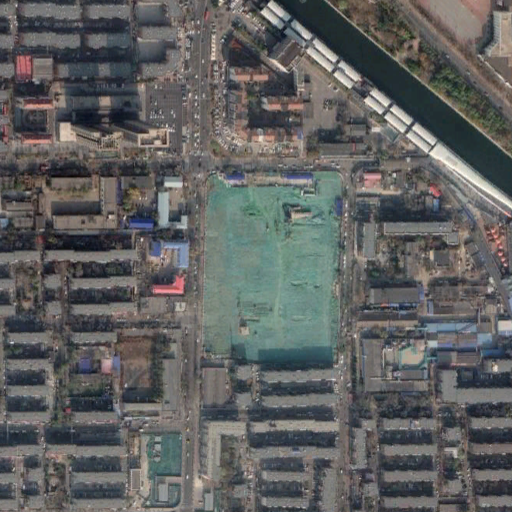cw: (201, 170, 341, 370), (143, 430, 181, 507)
